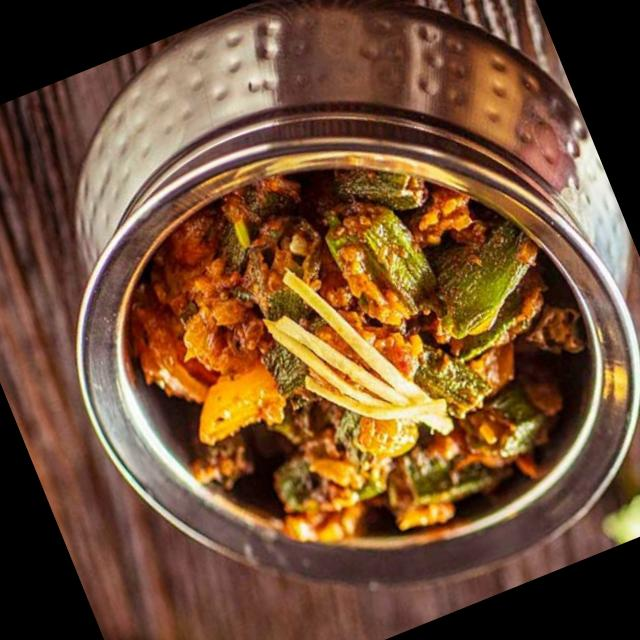BhindiMasala: (91, 85, 634, 604)
